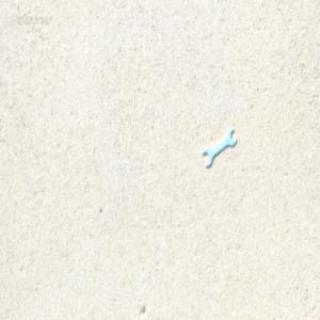Wrenchtrack_idkeyframe: (202, 130, 234, 168)
